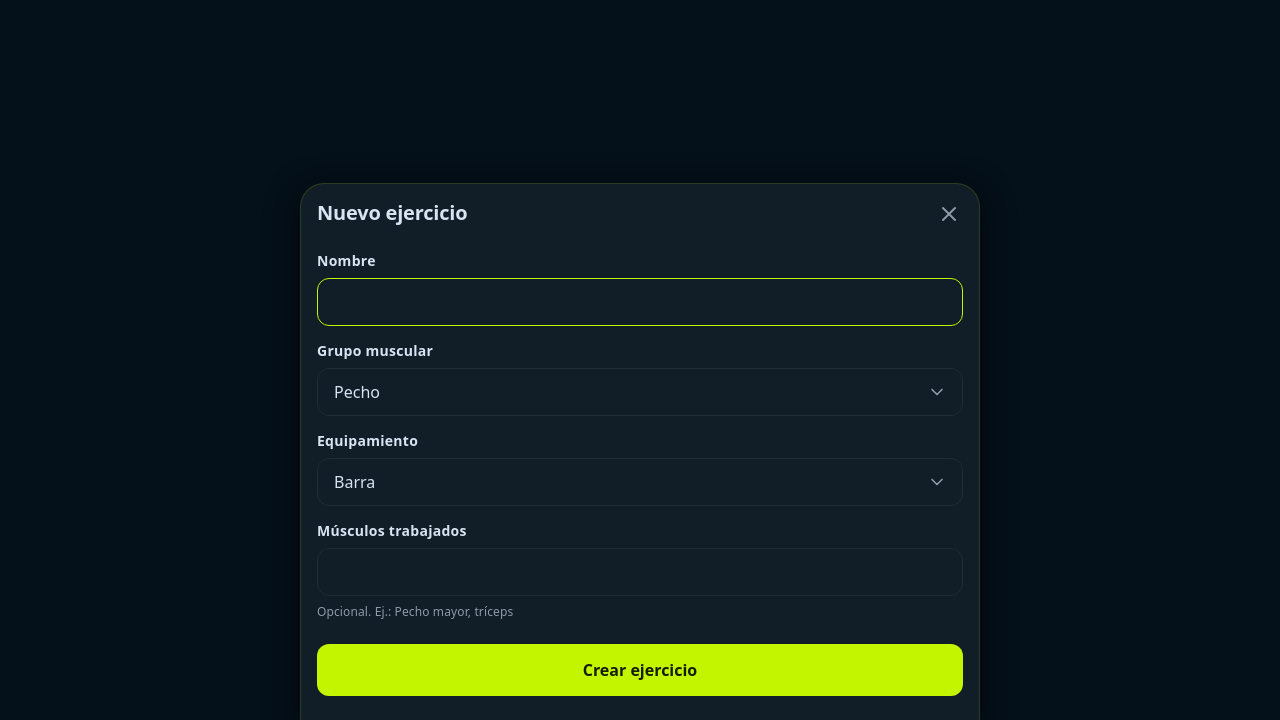
it: ExerciseSheet: crear › el error se limpia en cuanto el nombre vuelve a ser válido
The width and height of the screenshot is (1280, 720).
Click the button "Crear ejercicio" at coordinates (640, 670), box [317, 644, 963, 696]
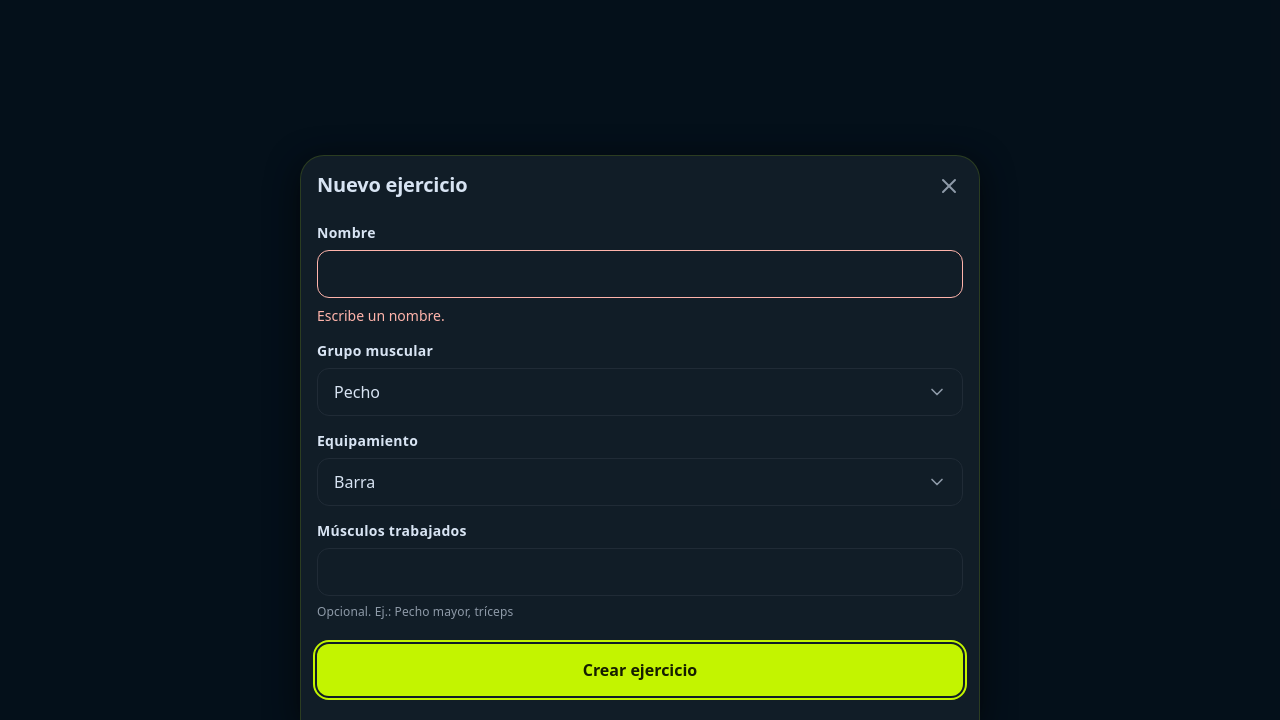
Result: the text "Escribe un nombre." is shown at [317, 306, 445, 325]
Type "R" into the field labelled "Nombre" at coordinates (640, 274), box [317, 250, 963, 298]
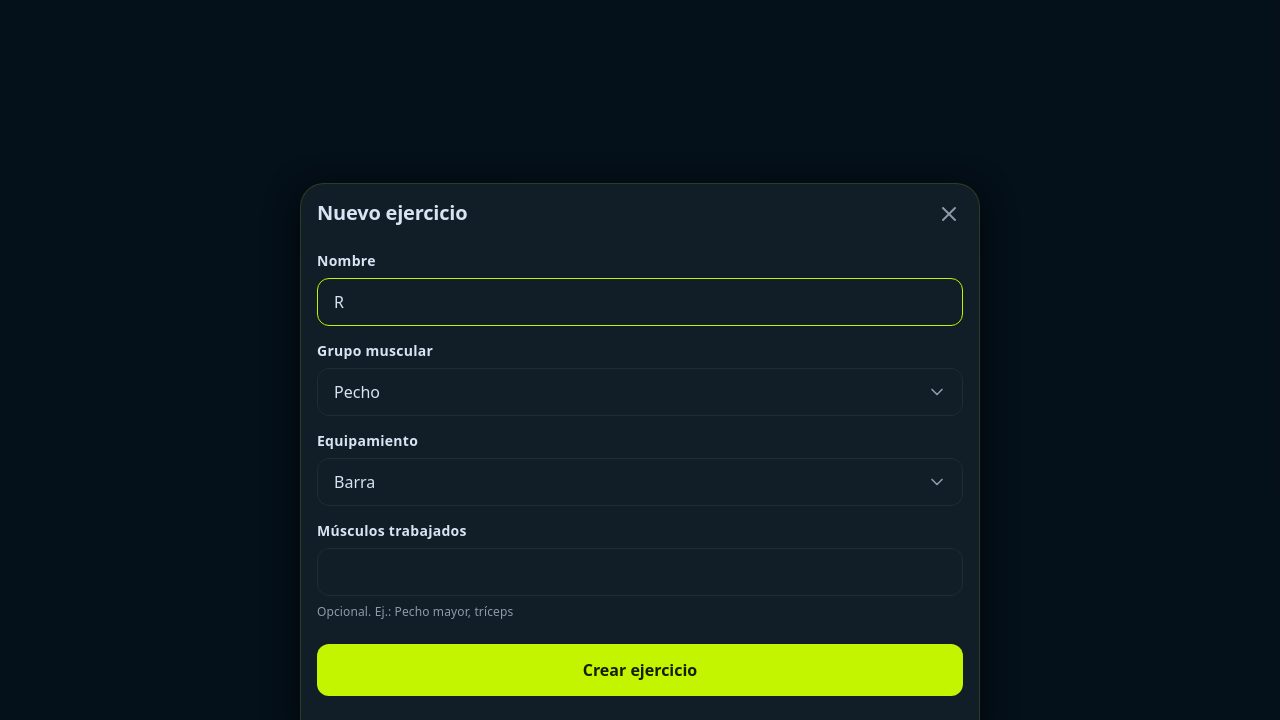
Result: the text "Escribe un nombre." is gone
